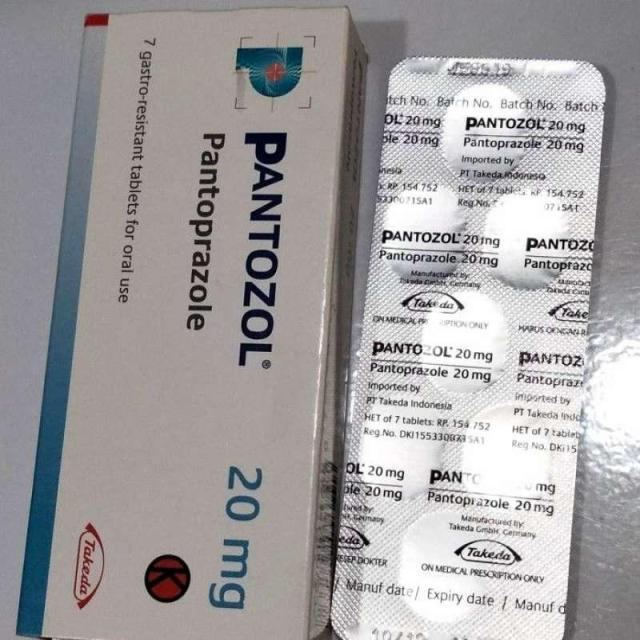drug-name: (233, 128, 288, 369)
